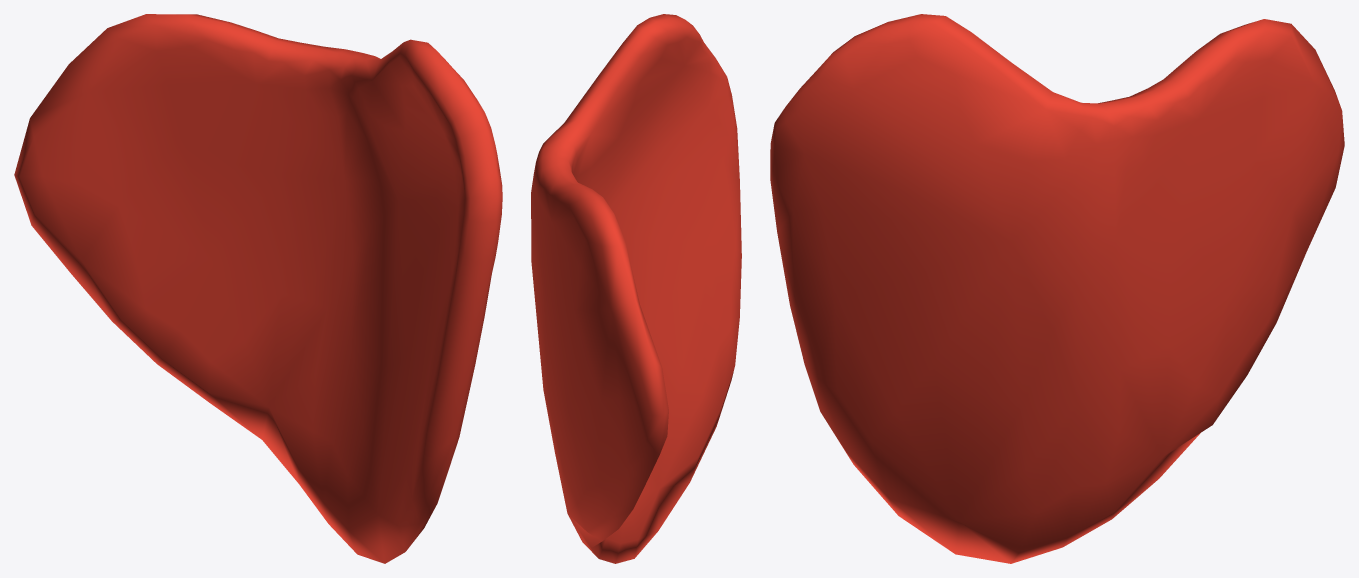
Rendered from Common_extensor_tendon.l_Generated_Mesh_From_X3D.671.glb.
3 views of the same model, side by side, from view 1: azimuth 30°, elevation 25°; view 2: azimuth 150°, elevation 25°; view 3: azimuth 270°, elevation 25° (orthographic). The views are drawn at different scales.
Parts seen in each view (by area): view 1: Common_extensor_tendon.l_Generated_Mesh_From_X3D.671; view 2: Common_extensor_tendon.l_Generated_Mesh_From_X3D.671; view 3: Common_extensor_tendon.l_Generated_Mesh_From_X3D.671.
Boxes of the visible parts, <box> form: Common_extensor_tendon.l_Generated_Mesh_From_X3D.671: <box>14,14,502,563</box>; Common_extensor_tendon.l_Generated_Mesh_From_X3D.671: <box>531,14,741,563</box>; Common_extensor_tendon.l_Generated_Mesh_From_X3D.671: <box>770,14,1344,563</box>.
Bounding box in the file's own units: 0.0038 × 0.00738 × 0.00686.
